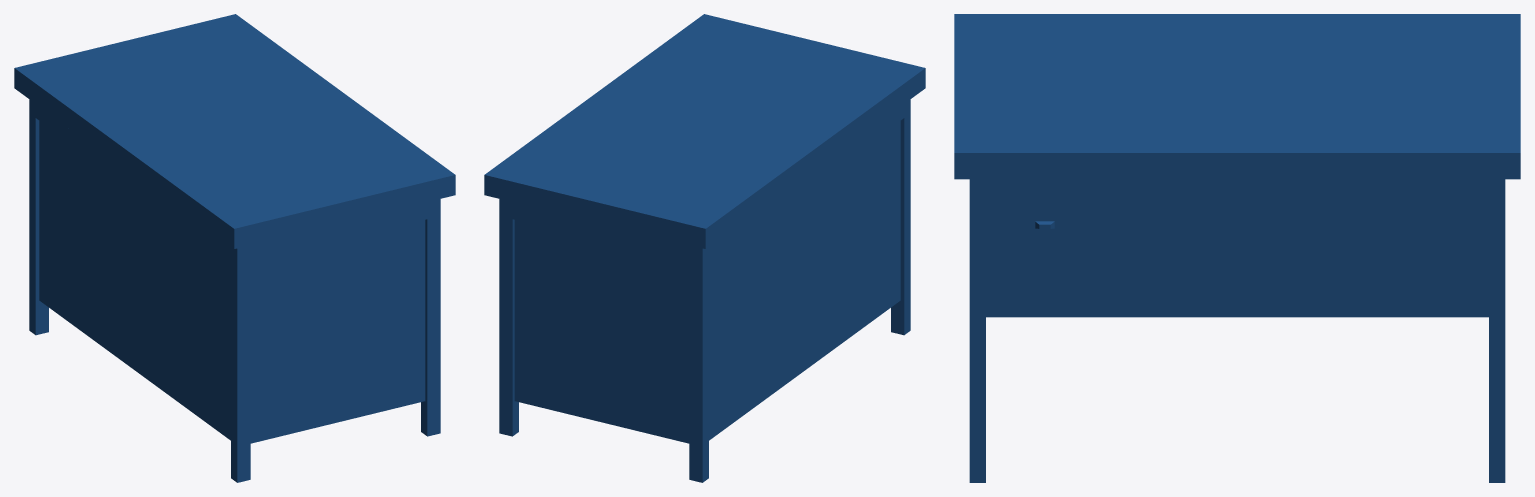
The model's file is desk.dae.
3 views of the same model, side by side, from view 1: azimuth 30°, elevation 25°; view 2: azimuth 150°, elevation 25°; view 3: azimuth 270°, elevation 25° (orthographic). The views are drawn at different scales.
Parts seen in each view (by area): view 1: Desk_Desk_Cube; view 2: Desk_Desk_Cube; view 3: Desk_Desk_Cube.
Part boxes in pixels (<box>): Desk_Desk_Cube: <box>14,14,455,482</box>; Desk_Desk_Cube: <box>484,14,925,482</box>; Desk_Desk_Cube: <box>954,14,1520,482</box>.
Bounding box in the file's own units: 0.4906 × 0.8437 × 0.552.
